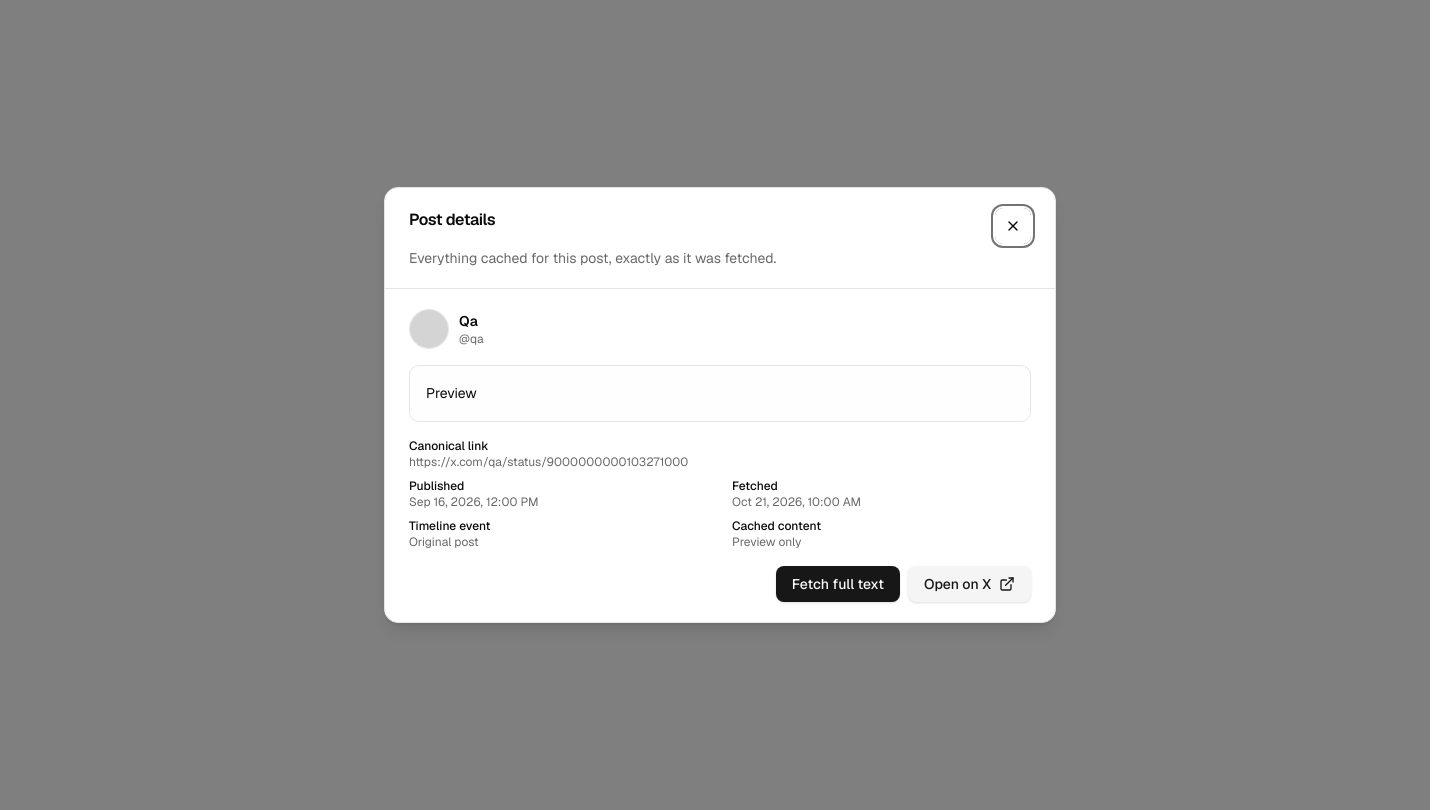
Test case: recovers partial text in place and updates the host
Click the button "Fetch full text" at (838, 584), box left=776, top=566, right=900, bottom=602
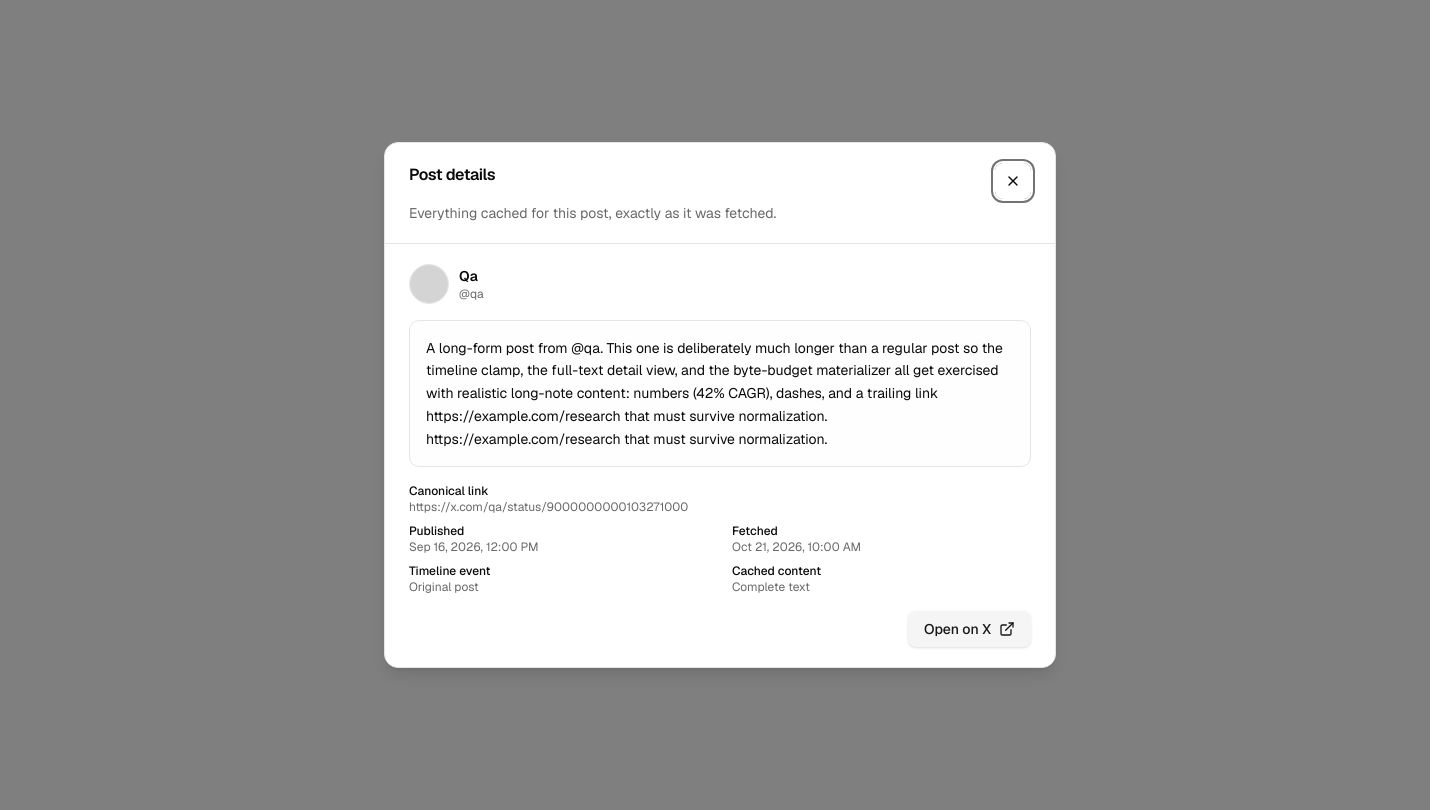
Check: the text "Complete text" is shown, box left=732, top=579, right=810, bottom=595
Check: the button "Fetch full text" is gone
